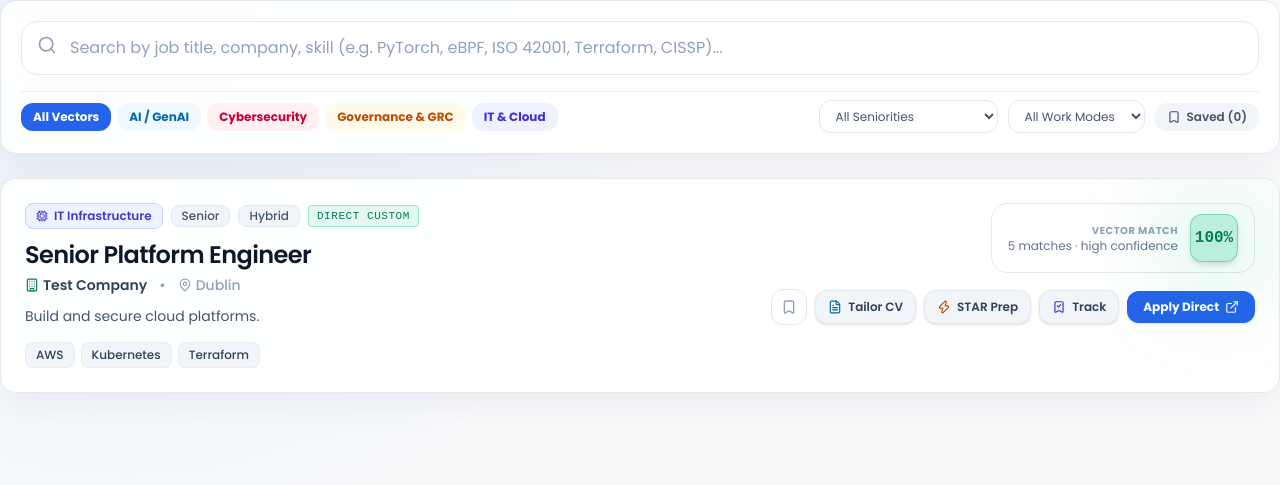
Test: JobBoard › offers a useful reset when a search has no matches
Type "marine biology" into the field named "Search roles".
click(640, 48); type("marine biology")  # box 21,21 -> 1259,75
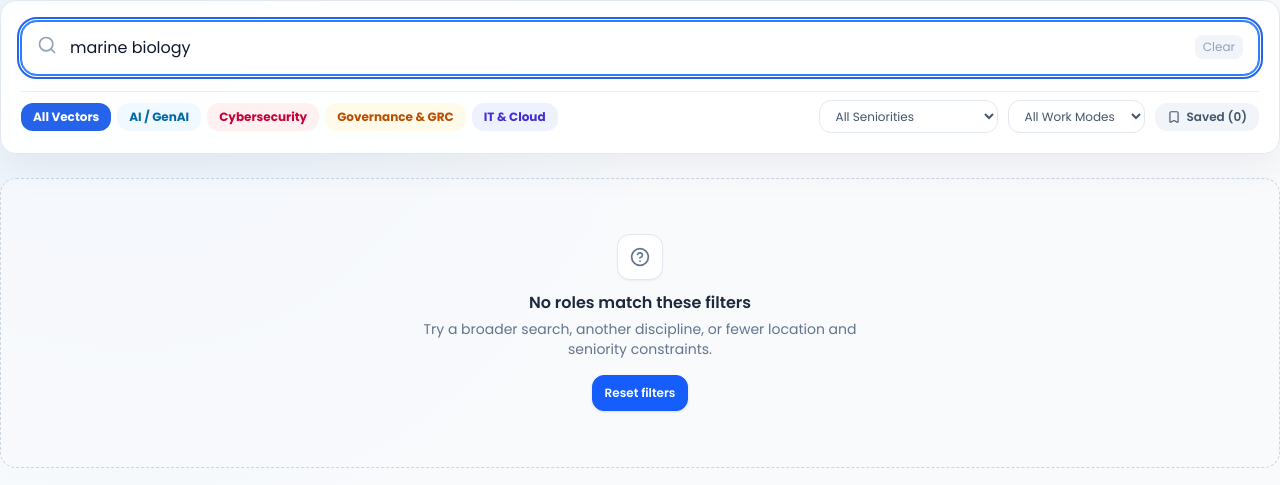
Now the heading "No roles match these filters" is shown, box 529,291 -> 751,315
Click the button "Reset filters".
click(640, 393)  # box 592,375 -> 688,411
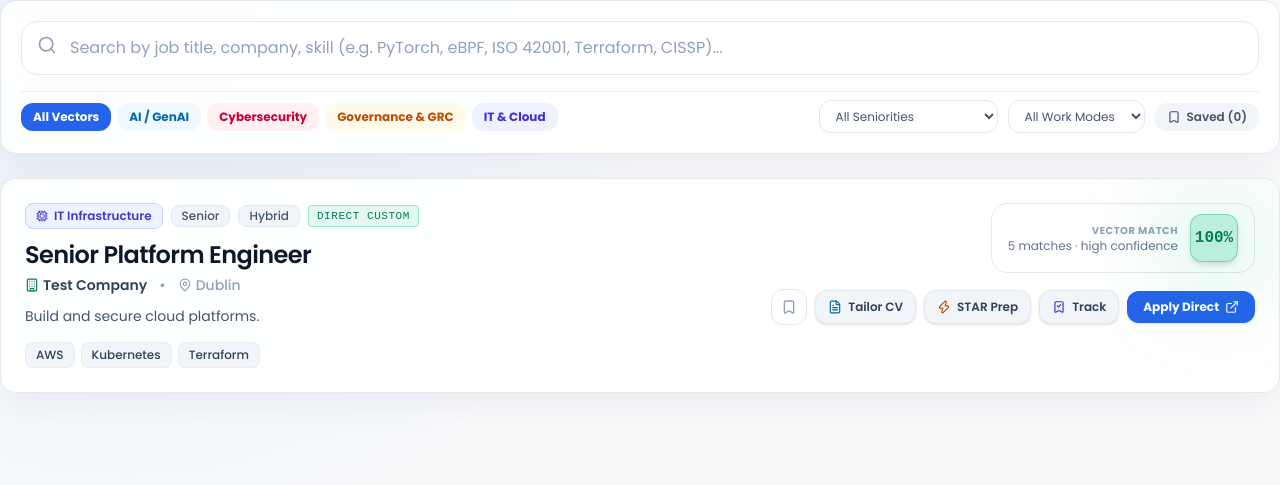
Now the heading "Senior Platform Engineer" is shown, box 25,238 -> 311,271
